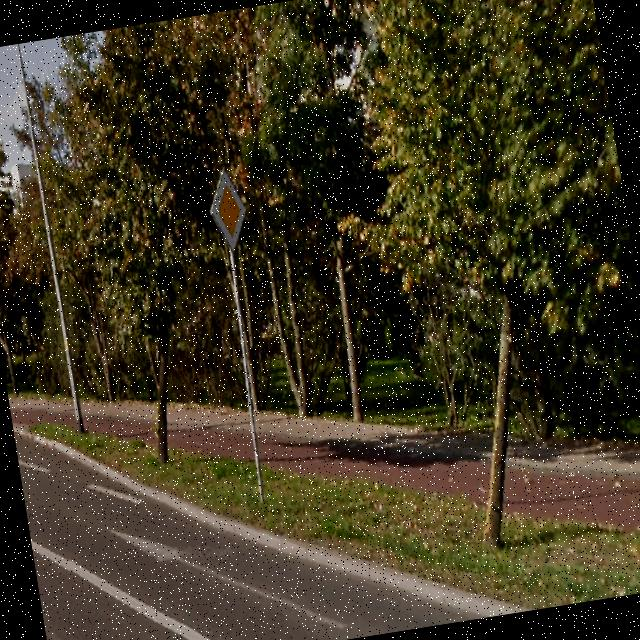Droga z pierwszenstwem: (202, 162, 252, 256)
